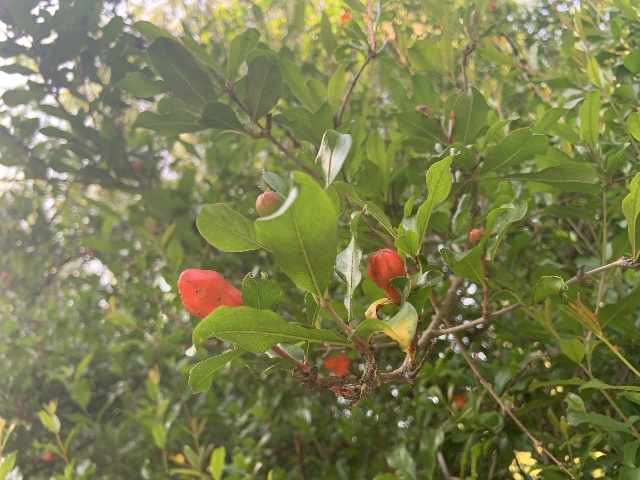bud: (177, 267, 242, 320), (367, 247, 408, 303), (255, 191, 281, 216), (469, 228, 483, 245)
